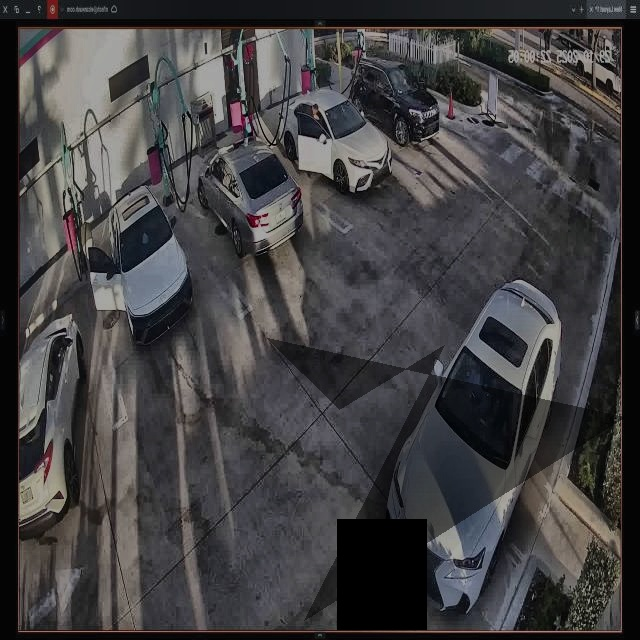Car: (385, 278, 564, 607), (88, 185, 191, 348), (199, 143, 301, 261), (279, 90, 390, 193), (351, 65, 438, 156)
